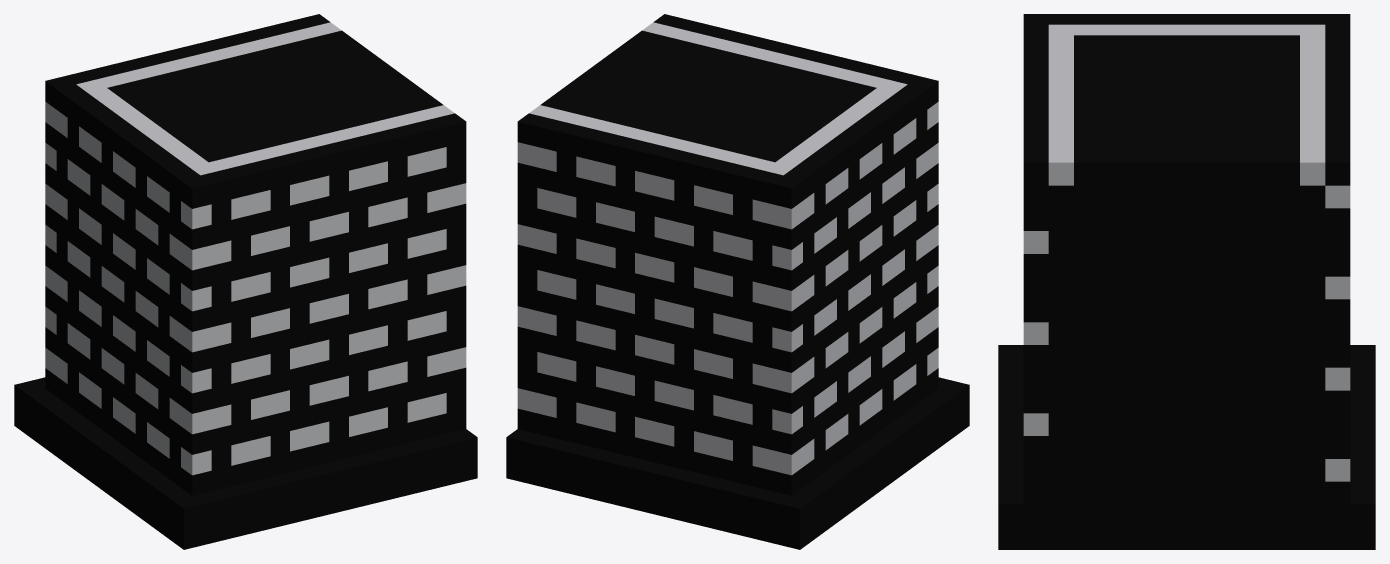
The model's file is dungeon_d_a_inner_wall_ending_flipped.obj.
The picture shows the model from 3 angles, left to right: view 1: azimuth 30°, elevation 25°; view 2: azimuth 150°, elevation 25°; view 3: azimuth 270°, elevation 25°; orthographic projection. The views are drawn at different scales.
Size of the model in its own units: 1.5 by 1.7 by 1.5.
Materials: 1 (1 with a texture image).
